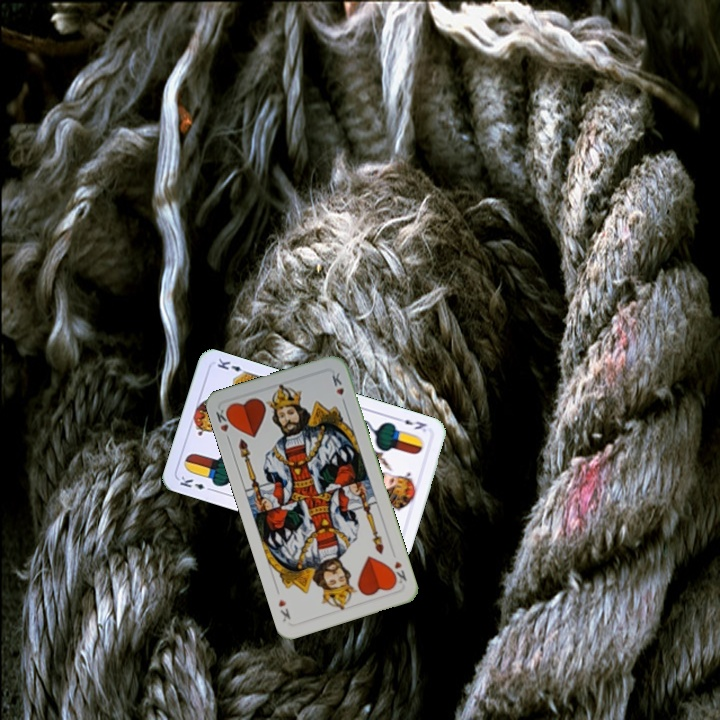EK: (176, 472, 216, 494), (392, 413, 429, 434)
HK: (212, 403, 236, 445), (390, 557, 409, 586)
